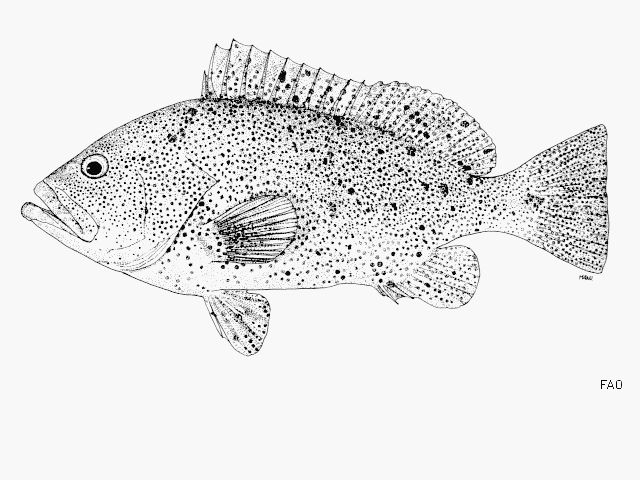fish: (21, 39, 610, 356)
